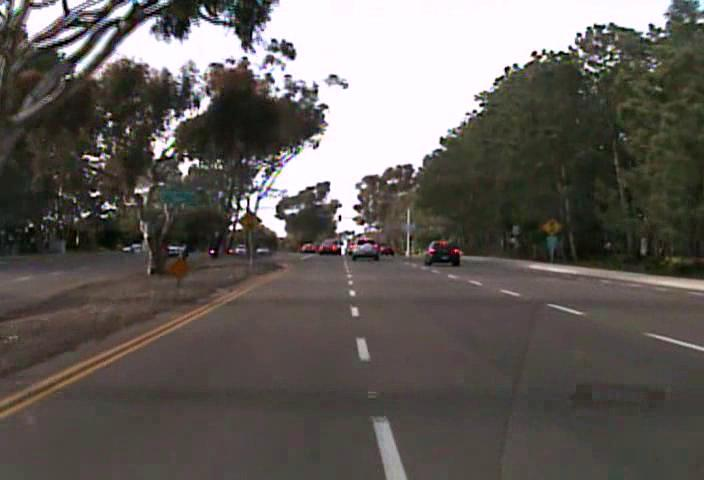signalAhead: (541, 216, 562, 237)
